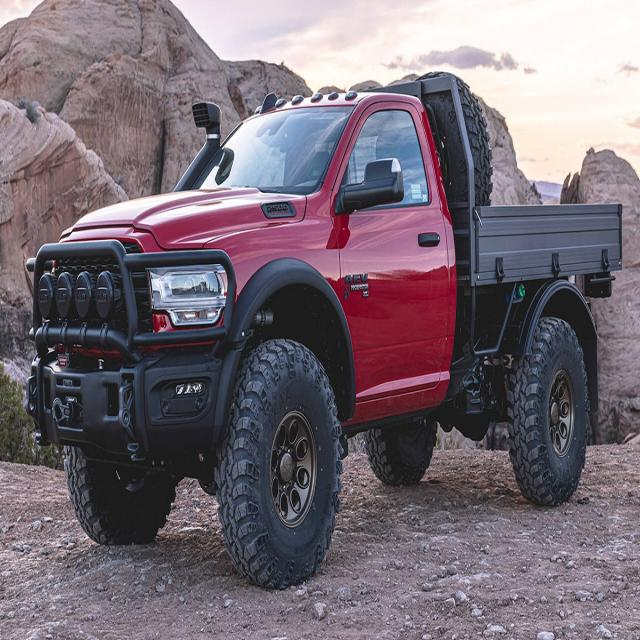truck: (14, 13, 626, 591)
